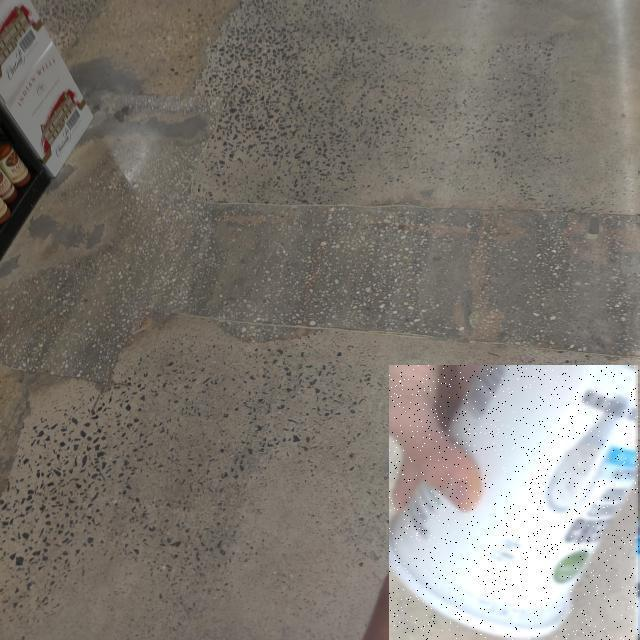Yoghurt: (390, 365, 640, 640)
